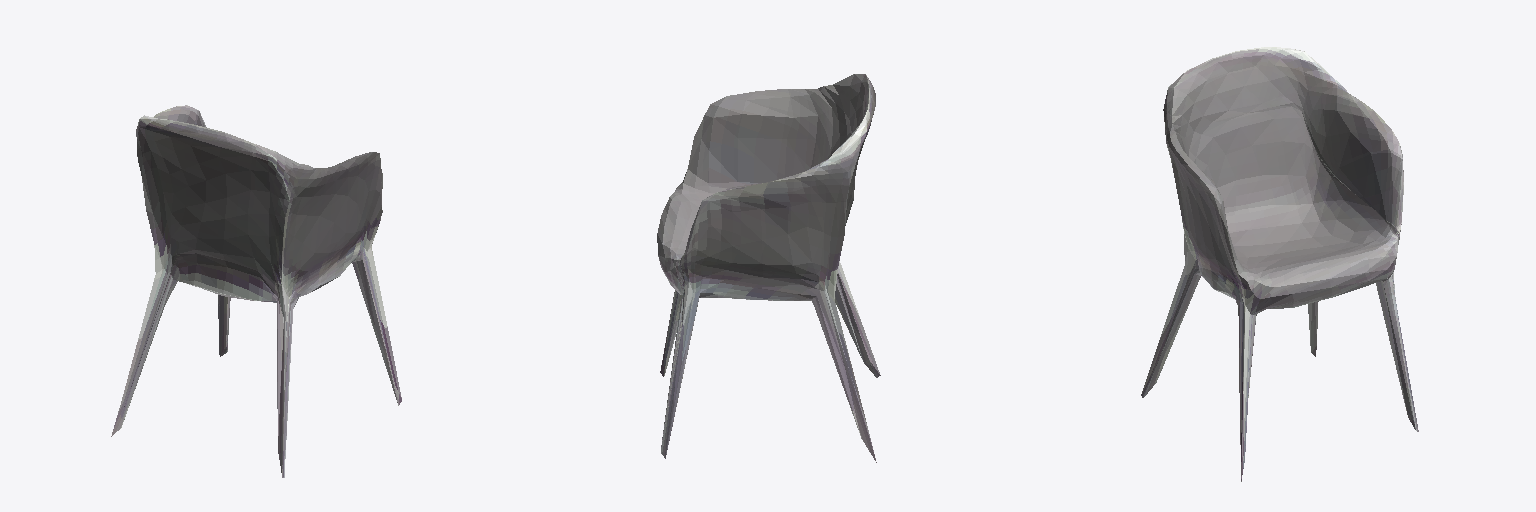
The picture shows the model from 3 angles: view 1: azimuth 30°, elevation 25°; view 2: azimuth 150°, elevation 25°; view 3: azimuth 270°, elevation 25°; orthographic projection.
Size of the model in its own units: 0.8012 by 1 by 0.7587.
1 materials, 1 textured.